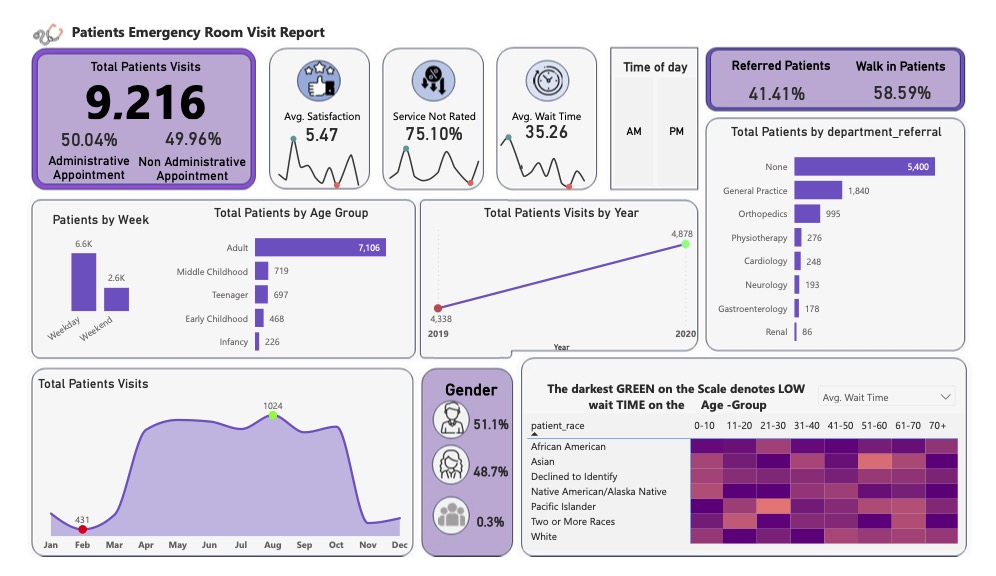

This screenshot's page, from the dashboard's own definition file:
{"tool":"powerbi","page":{"name":"Purple Dashboard","canvas":[1280,720],"ordinal":0},"visuals":[{"type":"card","title":"Total Patients Visits","fields":{"Values":["Calculations.Total Patients"]},"box":[59.9,54.1,221.2,86.2],"z":0},{"type":"card","fields":{"Values":["Calculations.% Administrative Schedule"]},"box":[51.2,114.1,87.5,93.8],"z":1000},{"type":"card","fields":{"Values":["Calculations.% Non - Administrative Schedule"]},"box":[181.2,124.1,106.2,71.2],"z":2000},{"type":"card","fields":{"Values":["Calculations.Average Satisfaction Score"]},"box":[367.5,129.1,75.6,48.8],"z":3000},{"type":"card","fields":{"Values":["Calculations.Measure"]},"box":[495.4,127.9,119.8,48.8],"z":4000},{"type":"card","fields":{"Values":["Calculations.Average Wait Time"]},"box":[650,129.1,110.5,43],"z":5000},{"type":"pivotTable","fields":{"Values":["Calculations.Average Wait Time"],"Rows":["Patients Dataset.patient_race"],"Columns":["Patients Dataset.Age Buckets"]},"box":[673.7,526.6,588.8,183.8],"z":6000},{"type":"slicer","fields":{"Values":["Parameter.Parameter"]},"box":[1057.4,480.3,202.5,46.2],"z":7000},{"type":"clusteredBarChart","fields":{"Category":["Patients Dataset.Age Group"],"Y":["Calculations.Total Patients"]},"box":[198.8,248.9,331.4,212.8],"z":8000},{"type":"areaChart","title":"Total Patients Visits","fields":{"Category":["Date.Month"],"Y":["Calculations.Total Patients","Calculations.Values Max points (Month)"]},"box":[22.1,476.8,509.3,243],"z":9000},{"type":"advancedSlicerVisual","title":"Time of day","fields":{"Values":["Patients Dataset.time_of_day"]},"box":[791.2,50.3,117.5,178.8],"z":10000},{"type":"lineChart","title":"Total Patients Visits by Year","fields":{"Category":["Date.Year"],"Y":["Calculations.Total Patients"]},"box":[540.7,248.9,368.6,200],"z":11000},{"type":"clusteredBarChart","fields":{"Y":["Calculations.Total Patients"],"Category":["Patients Dataset.department_referral"]},"box":[920.9,140.7,340.7,308.1],"z":12000},{"type":"card","fields":{"Values":["Calculations.% Referred Patients"]},"box":[947.7,72.1,127.9,54.7],"z":13000},{"type":"card","fields":{"Values":["Calculations.% Un Referred Patients"]},"box":[1119.8,71,118.6,54.7],"z":14000},{"type":"card","fields":{"Values":["Calculations.HeatMap Caption"]},"box":[684.9,469.1,390,67.5],"z":15000},{"type":"textbox","box":[30.1,173.7,130.2,55.8],"z":16000},{"type":"textbox","box":[151.2,175.6,162.8,55.8],"z":17000},{"type":"textbox","box":[491.5,116,127.6,61.7],"z":18000},{"type":"textbox","box":[336.1,116.3,139.5,31.4],"z":19000},{"type":"textbox","box":[650,115.2,110.5,61.6],"z":20000},{"type":"textbox","box":[920.9,47.7,193,47.7],"z":21000},{"type":"textbox","box":[1098.8,48.9,155.8,50],"z":22000},{"type":"clusteredColumnChart","title":"Patients by Week","fields":{"Category":["Date.WeekType"],"Y":["Calculations.Total Patients"]},"box":[26.8,258.2,167.4,193],"z":23000},{"type":"card","fields":{"Values":["Calculations.% Male Visit"]},"box":[586.5,524.1,87.5,36.2],"z":24000},{"type":"card","fields":{"Values":["Calculations.% Female Visit"]},"box":[592.8,586.6,75,36.2],"z":25000},{"type":"card","fields":{"Values":["Calculations.% Unknown Visit"]},"box":[589.7,652.4,80.2,39.5],"z":26000},{"type":"PBI_CV_25997FEB_F466_44FA_B562_AC4063283C4C","fields":{"axis":["Date.Month"],"measure":["Calculations.Average Satisfaction Score"]},"box":[330.2,144.2,145.3,89.5],"z":27000},{"type":"PBI_CV_25997FEB_F466_44FA_B562_AC4063283C4C","fields":{"axis":["Date.Month"],"measure":["Calculations.% No Rating"]},"box":[477.9,157,158.1,74.4],"z":28000},{"type":"PBI_CV_25997FEB_F466_44FA_B562_AC4063283C4C","fields":{"axis":["Date.Month"],"measure":["Calculations.Average Wait Time"]},"box":[625.6,141.9,151.2,94.2],"z":29000},{"type":"textbox","box":[541.2,477.5,126.2,38.8],"z":30000},{"type":"textbox","box":[60,0,361.2,35],"z":31000}]}

Visuals, with their boxes in screenshot pixels (x1, y1, x2, y2), scaled from the page's 1280x720 canvas onto the 996x576 screenshot:
"Total Patients Visits" card: 47 43 219 112
card - Calculations.% Administrative Schedule: 40 91 108 166
card - Calculations.% Non - Administrative Schedule: 141 99 224 156
card - Calculations.Average Satisfaction Score: 286 103 345 142
card - Calculations.Measure: 385 102 479 141
card - Calculations.Average Wait Time: 506 103 592 138
pivotTable - Calculations.Average Wait Time x Patients Dataset.patient_race: 524 421 982 568
slicer - Parameter.Parameter: 823 384 980 421
clusteredBarChart - Patients Dataset.Age Group x Calculations.Total Patients: 155 199 413 369
"Total Patients Visits" areaChart: 17 381 413 575
"Time of day" advancedSlicerVisual: 616 40 707 183
"Total Patients Visits by Year" lineChart: 421 199 708 359
clusteredBarChart - Calculations.Total Patients x Patients Dataset.department_referral: 717 113 982 359
card - Calculations.% Referred Patients: 737 58 837 101
card - Calculations.% Un Referred Patients: 871 57 964 101
card - Calculations.HeatMap Caption: 533 375 836 429
textbox: 23 139 125 184
textbox: 118 140 244 185
textbox: 382 93 482 142
textbox: 262 93 370 118
textbox: 506 92 592 141
textbox: 717 38 867 76
textbox: 855 39 976 79
"Patients by Week" clusteredColumnChart: 21 207 151 361
card - Calculations.% Male Visit: 456 419 524 448
card - Calculations.% Female Visit: 461 469 520 498
card - Calculations.% Unknown Visit: 459 522 521 554
PBI_CV_25997FEB_F466_44FA_B562_AC4063283C4C - Date.Month x Calculations.Average Satisfaction Score: 257 115 370 187
PBI_CV_25997FEB_F466_44FA_B562_AC4063283C4C - Date.Month x Calculations.% No Rating: 372 126 495 185
PBI_CV_25997FEB_F466_44FA_B562_AC4063283C4C - Date.Month x Calculations.Average Wait Time: 487 114 604 189
textbox: 421 382 519 413
textbox: 47 0 328 28
